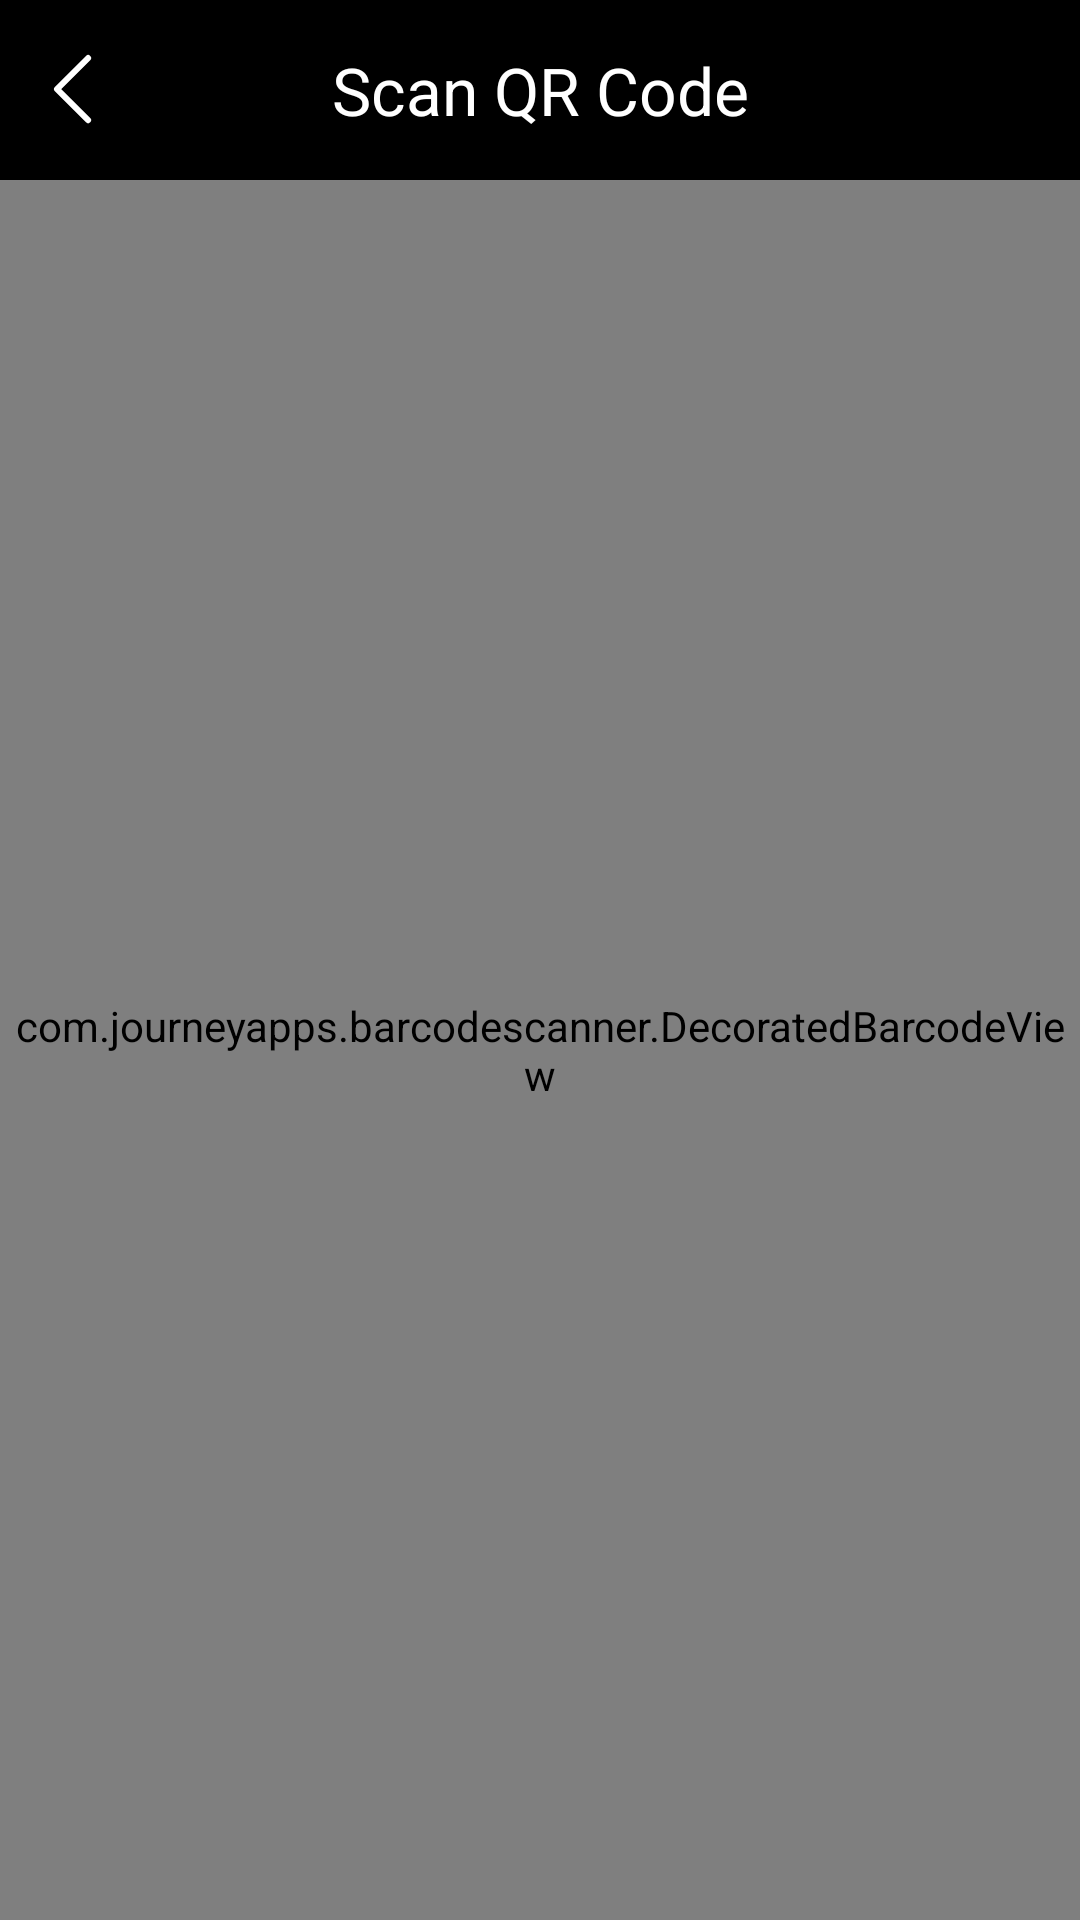

Icon bounding boxes for this 1080 x 1920 phone screenshot, format bbox=[x1, y1, x2, y2]:
title back: bbox=[54, 54, 92, 124]
